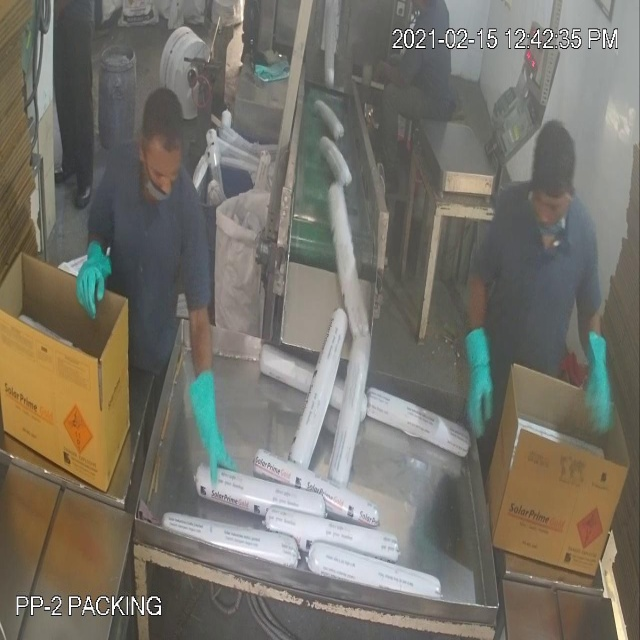Guantes: (183, 357, 244, 497), (458, 318, 501, 449), (581, 315, 618, 445), (71, 244, 127, 323)
